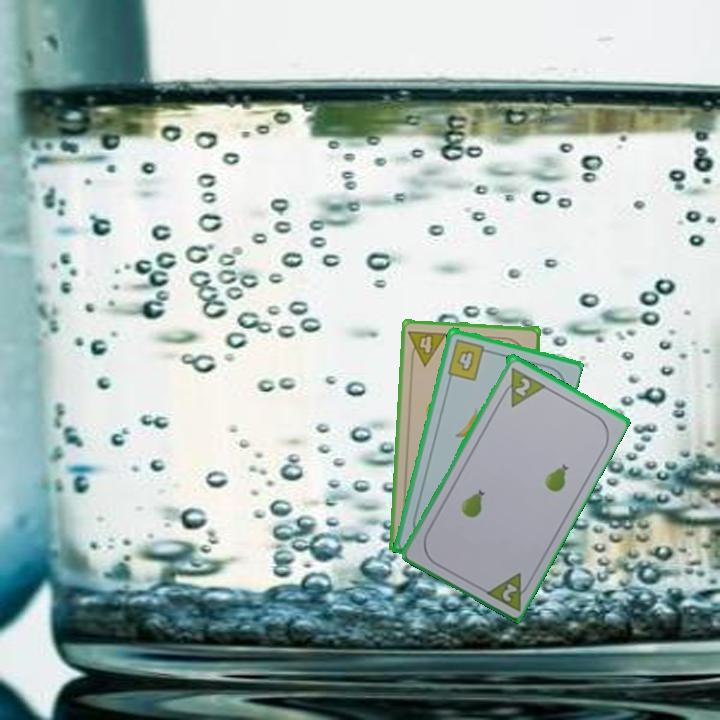2p: (511, 373, 533, 399), (498, 579, 520, 604)
4b: (444, 335, 493, 383)
4p: (405, 326, 449, 368)
